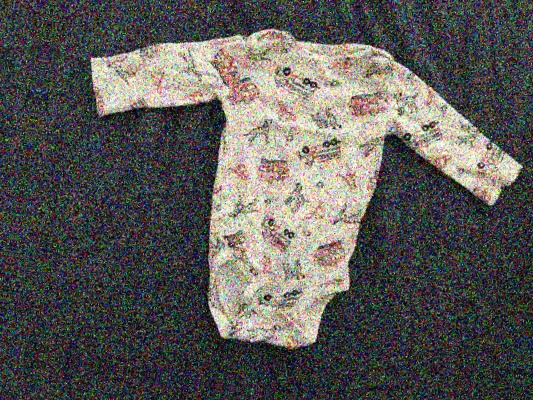Body: (35, 0, 533, 394), (0, 0, 22, 308), (0, 391, 473, 400)
